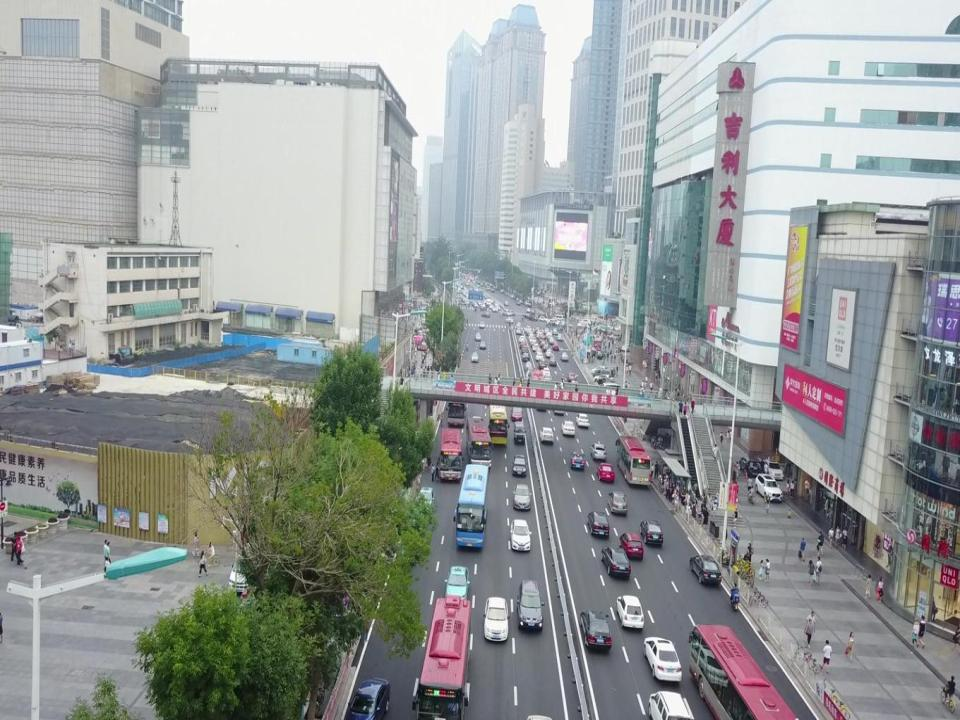bus: (688, 624, 798, 719), (412, 595, 471, 719), (453, 463, 489, 548), (615, 434, 652, 485), (466, 415, 492, 469), (440, 428, 464, 481), (488, 402, 510, 446), (446, 392, 467, 426), (529, 367, 547, 395)
car: (343, 677, 389, 720), (643, 636, 683, 682), (229, 542, 264, 593), (517, 578, 545, 630), (580, 609, 612, 648), (648, 691, 690, 720), (483, 597, 510, 641), (444, 565, 470, 604), (689, 554, 722, 584), (616, 595, 644, 629), (754, 474, 784, 503), (601, 547, 630, 576), (414, 485, 435, 518), (619, 532, 644, 559), (510, 520, 532, 550), (640, 519, 663, 546), (587, 509, 609, 536), (513, 483, 532, 510), (739, 456, 762, 476), (764, 457, 784, 480), (608, 491, 627, 513), (596, 463, 615, 482), (512, 454, 527, 476), (513, 421, 527, 443), (570, 450, 585, 469), (590, 444, 606, 460), (539, 426, 554, 442), (561, 421, 575, 435), (510, 406, 523, 420), (575, 414, 589, 426), (553, 401, 564, 414), (470, 351, 479, 362), (524, 359, 532, 371), (539, 358, 547, 370), (541, 367, 550, 377), (560, 351, 569, 361), (567, 372, 576, 381), (535, 352, 544, 361), (527, 314, 538, 321), (522, 352, 530, 361), (521, 345, 529, 354), (556, 333, 564, 342), (480, 340, 487, 349), (505, 315, 514, 322), (502, 309, 511, 316), (506, 308, 515, 315), (522, 313, 532, 319), (515, 321, 522, 329), (549, 358, 556, 366), (552, 343, 559, 351), (475, 332, 481, 341), (545, 375, 552, 382), (520, 341, 526, 349), (519, 335, 525, 343), (624, 345, 632, 351), (545, 351, 552, 357), (552, 328, 558, 335), (479, 321, 485, 327), (404, 296, 412, 300), (516, 328, 521, 334), (504, 300, 508, 306), (501, 288, 505, 293), (516, 301, 520, 306), (520, 297, 523, 303), (511, 294, 515, 298), (516, 297, 520, 301), (526, 308, 530, 312)
